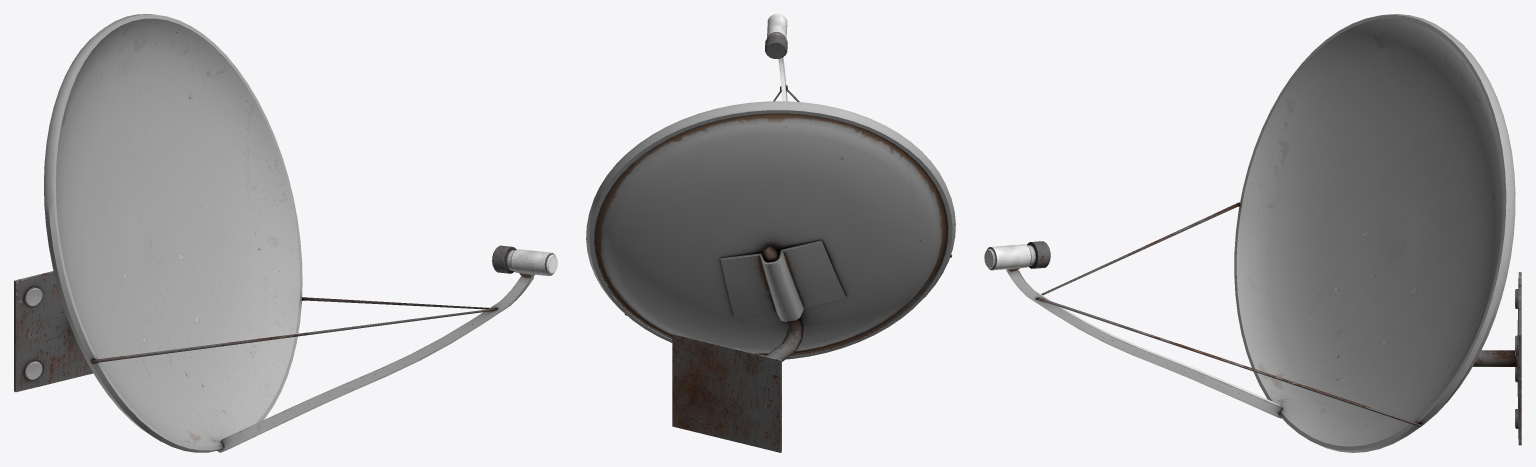
File: SM_SatelliteDish03.FBX
3 views of the same model, side by side, from view 1: azimuth 30°, elevation 25°; view 2: azimuth 150°, elevation 25°; view 3: azimuth 270°, elevation 25° (orthographic). The views are drawn at different scales.
Visible parts, largest first — view 1: SM_SatelliteDish03_LOD0; view 2: SM_SatelliteDish03_LOD0; view 3: SM_SatelliteDish03_LOD0.
Boxes of the visible parts, x1=… form: SM_SatelliteDish03_LOD0: x1=14, y1=14, x2=557, y2=452; SM_SatelliteDish03_LOD0: x1=586, y1=14, x2=955, y2=452; SM_SatelliteDish03_LOD0: x1=984, y1=14, x2=1521, y2=452.
Bounding box in the file's own units: 58.56 × 75.87 × 58.8.
